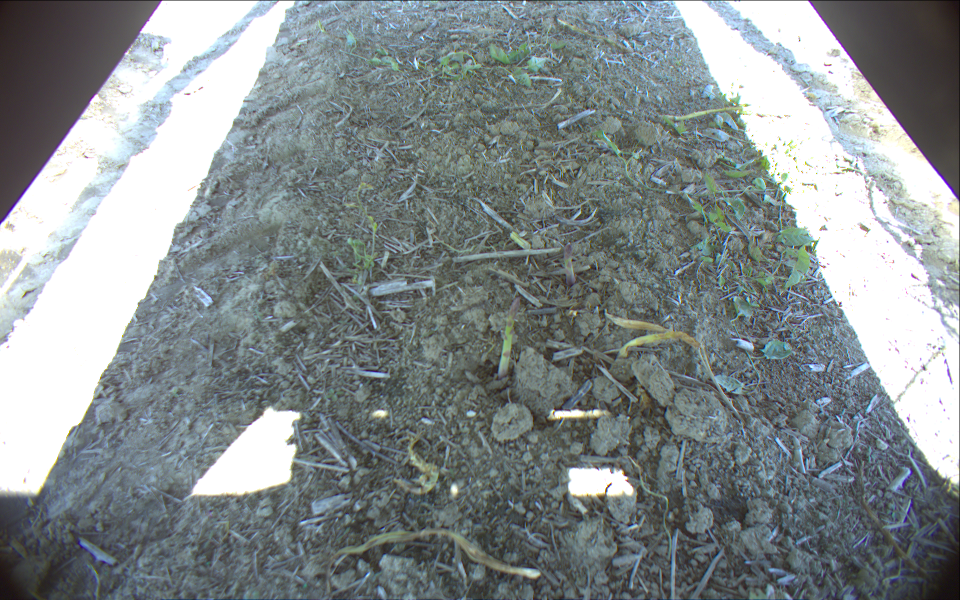aspa: (495, 296, 521, 379), (554, 239, 579, 292)
